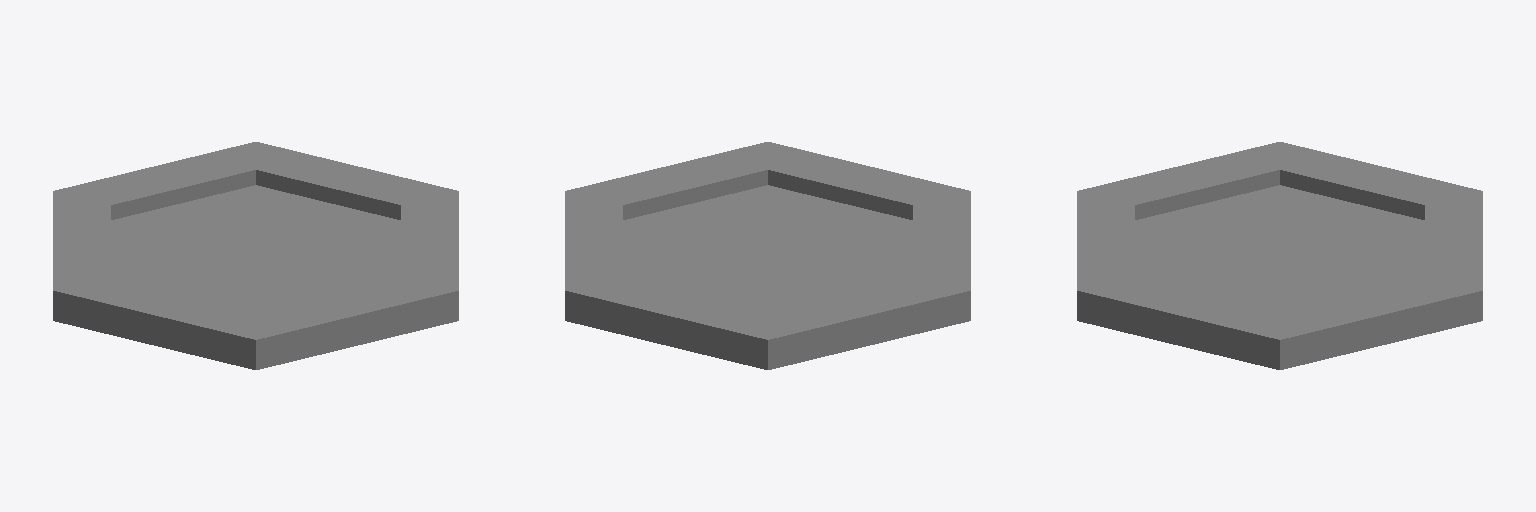
Rendered from scanner.obj.
3 views of the same model, side by side, from view 1: azimuth 30°, elevation 25°; view 2: azimuth 150°, elevation 25°; view 3: azimuth 270°, elevation 25° (orthographic).
Parts seen in each view (by area): view 1: scanner, screen; view 2: scanner, screen; view 3: scanner, screen.
Boxes of the visible parts, box(x1,y1,x2,y2) form: scanner: box(53, 142, 458, 369); screen: box(111, 185, 400, 311); scanner: box(565, 142, 970, 369); screen: box(623, 185, 912, 311); scanner: box(1077, 142, 1482, 369); screen: box(1135, 185, 1424, 311).
Bounding box in the file's own units: 2.8 × 0.2 × 2.42.